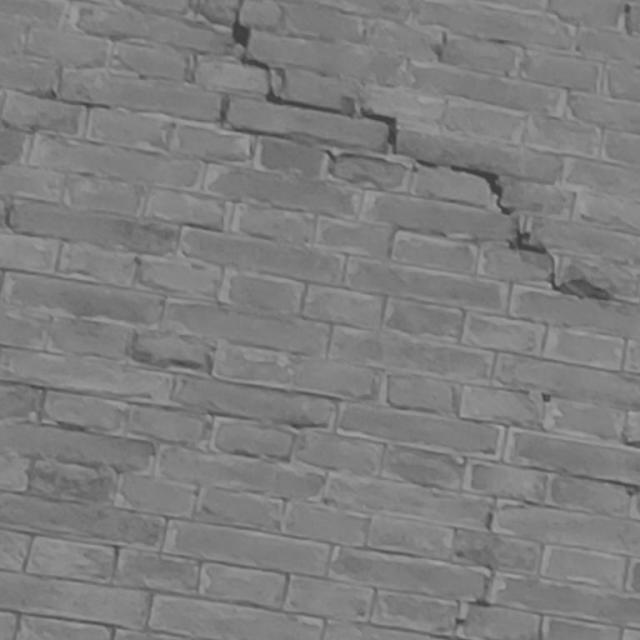crack: (218, 1, 611, 300)
